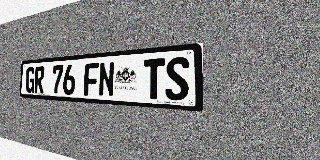6: (63, 64, 76, 95)
7: (52, 65, 63, 95)
F: (84, 63, 99, 96)
G: (25, 67, 35, 93)
N: (98, 61, 115, 97)
R: (34, 66, 45, 94)
S: (165, 56, 189, 101)
T: (143, 58, 165, 100)
